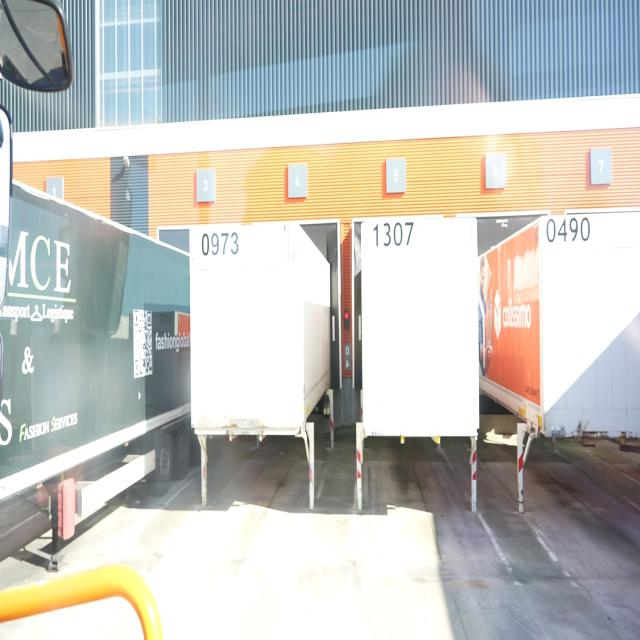Code: (542, 210, 594, 251), (371, 220, 422, 254), (198, 225, 242, 261)
